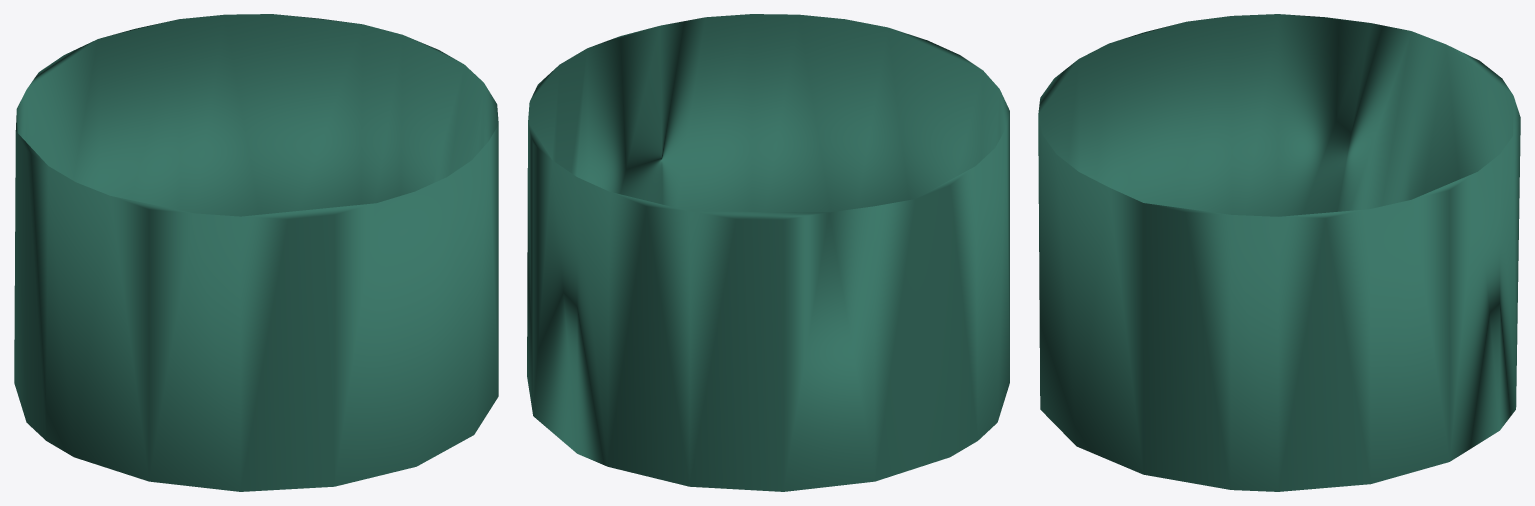
Rendered from DecorativeBox3.glb.
3 renders of one model, left to right at view 1: azimuth 30°, elevation 25°; view 2: azimuth 150°, elevation 25°; view 3: azimuth 270°, elevation 25°, orthographic.
Size of the model in its own units: 0.2956 by 0.1858 by 0.294.
